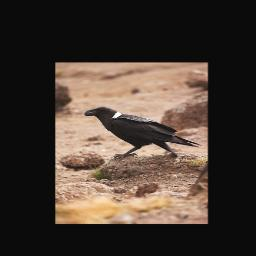Crow: (82, 105, 202, 164)
